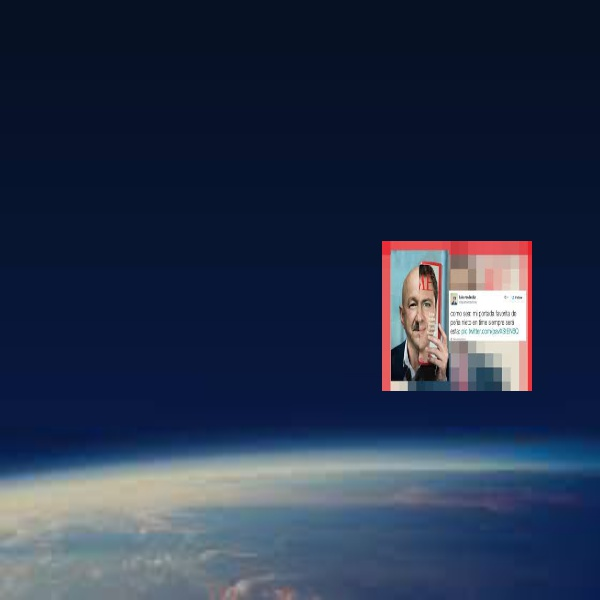time_cover: (375, 232, 457, 399)
